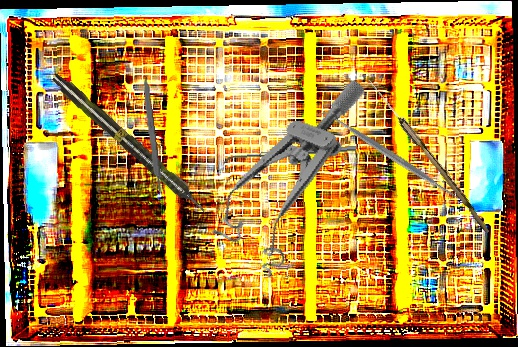Handpiece: (48, 69, 212, 220)
Scalpel Handle: (140, 75, 163, 193)
Spatula Surgical: (314, 101, 468, 210), (223, 145, 357, 166)
Speculum: (204, 52, 367, 286)
Surgical Spoon: (364, 77, 494, 234)
